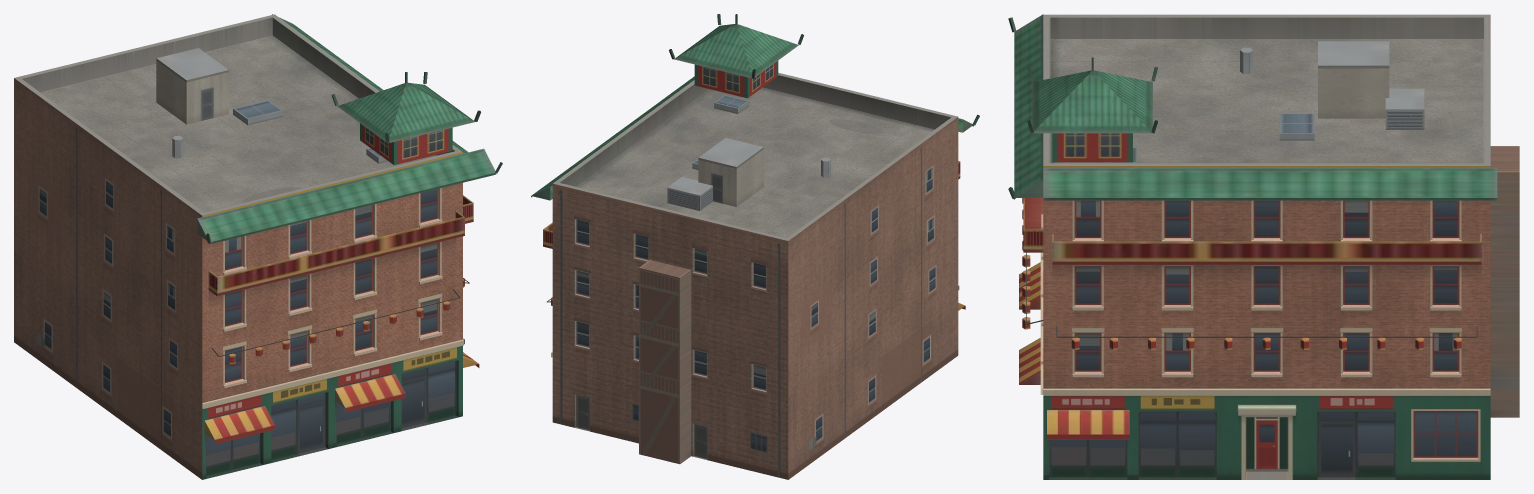
The model's file is sf_brick_b.glb.
3 renders of one model, left to right at view 1: azimuth 30°, elevation 25°; view 2: azimuth 150°, elevation 25°; view 3: azimuth 270°, elevation 25°, orthographic. The views are drawn at different scales.
Parts seen in each view (by area): view 1: sf_brick_b; view 2: sf_brick_b; view 3: sf_brick_b.
Part boxes in pixels (x1,y1,x2,y2): sf_brick_b: [14, 14, 502, 479]; sf_brick_b: [531, 14, 979, 479]; sf_brick_b: [1008, 14, 1519, 479].
Bounding box in the file's own units: 18.23 × 19.8 × 22.87.
Materials: 1 (1 with a texture image).
